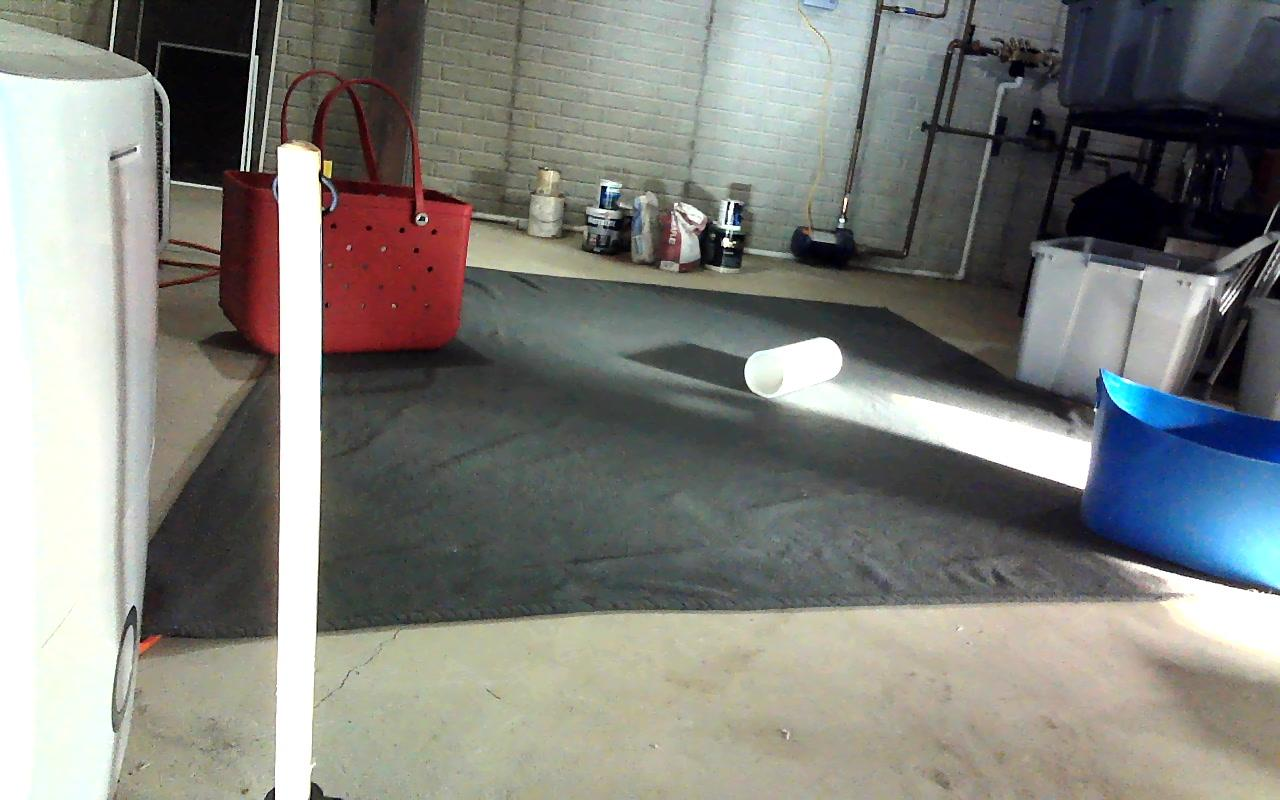coral: (744, 337, 841, 396)
